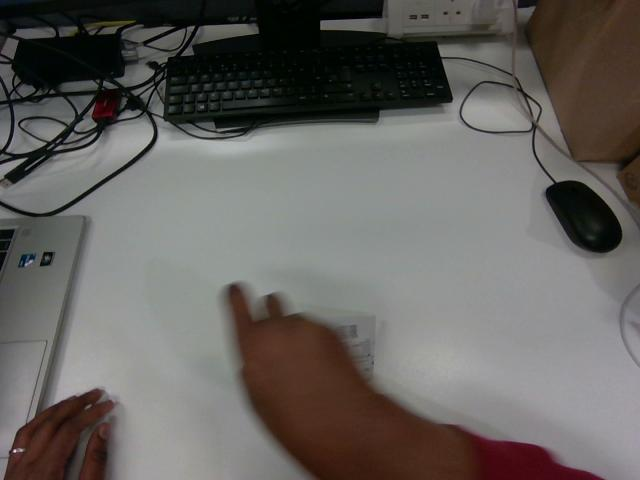syringe: (305, 307, 374, 379)
